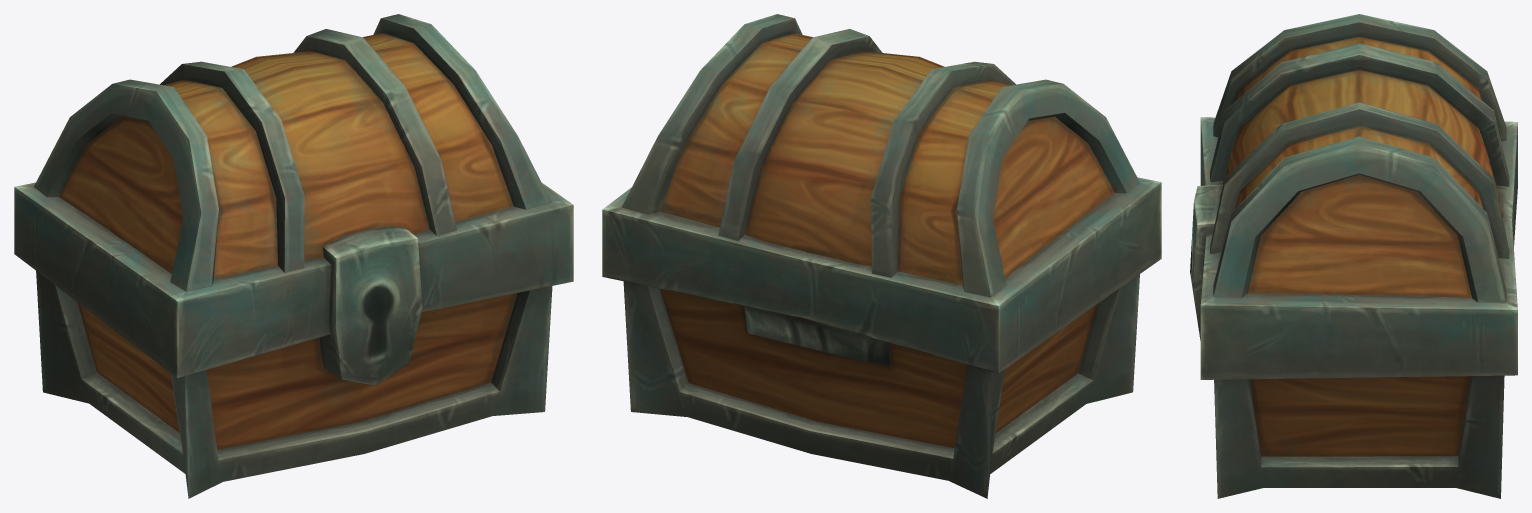
Rendered from com.demensdeum.flame-steel-death-mask-2.chest.model.glb.
3 renders of one model, left to right at view 1: azimuth 30°, elevation 25°; view 2: azimuth 150°, elevation 25°; view 3: azimuth 270°, elevation 25°, orthographic. The views are drawn at different scales.
Visible parts, largest first — view 1: Box001_chest_0; view 2: Box001_chest_0; view 3: Box001_chest_0.
Part boxes in pixels (x1,y1,x2,y2): Box001_chest_0: (14,14,573,498); Box001_chest_0: (602,14,1161,498); Box001_chest_0: (1190,14,1517,498).
Bounding box in the file's own units: 0.6251 × 0.5243 × 0.4607.
Materials: 1 (1 with a texture image).
